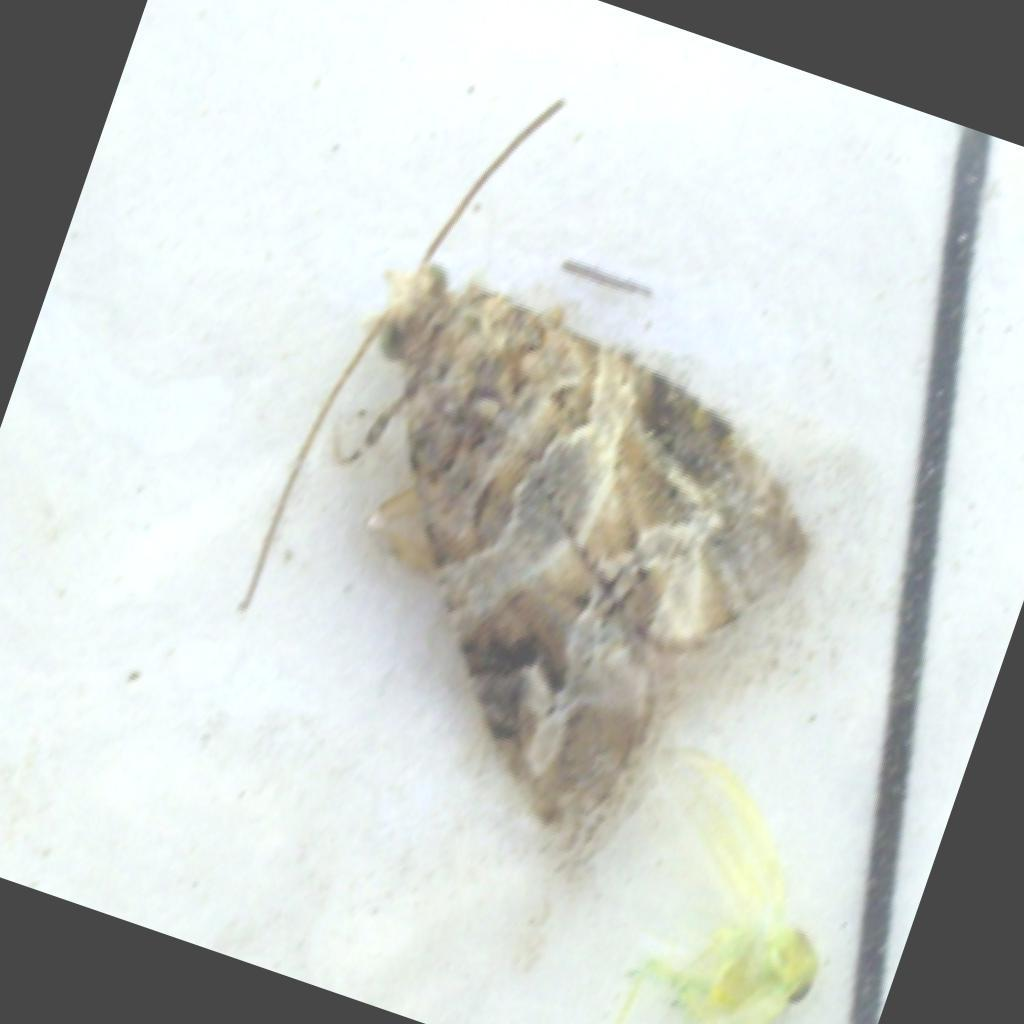grape_moth: (234, 98, 821, 851)
